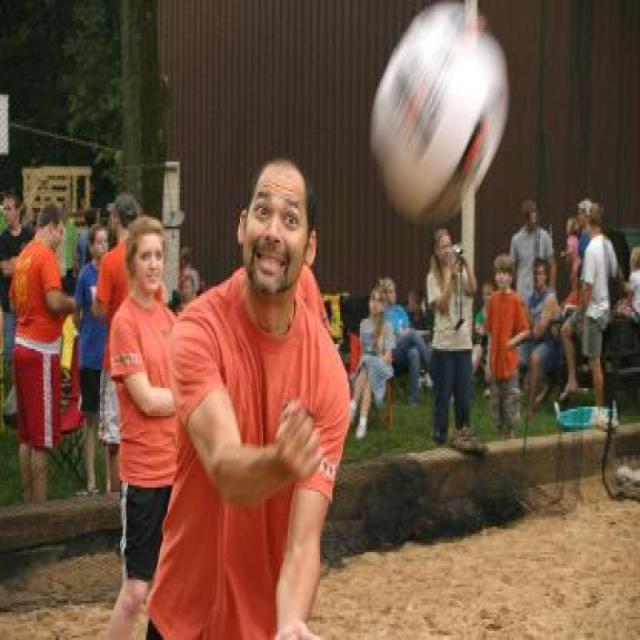volleyball: (368, 0, 509, 229)
